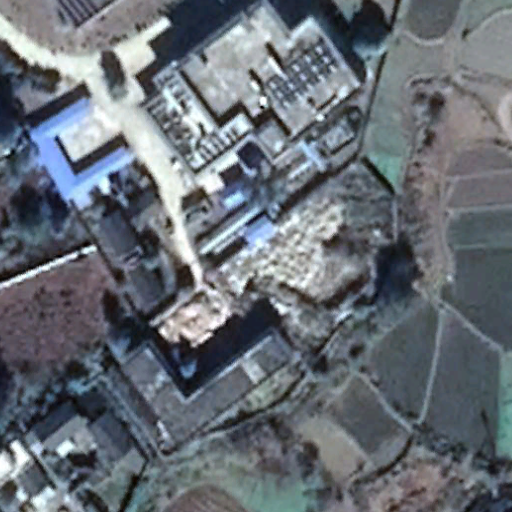msw: (218, 198, 348, 313)
